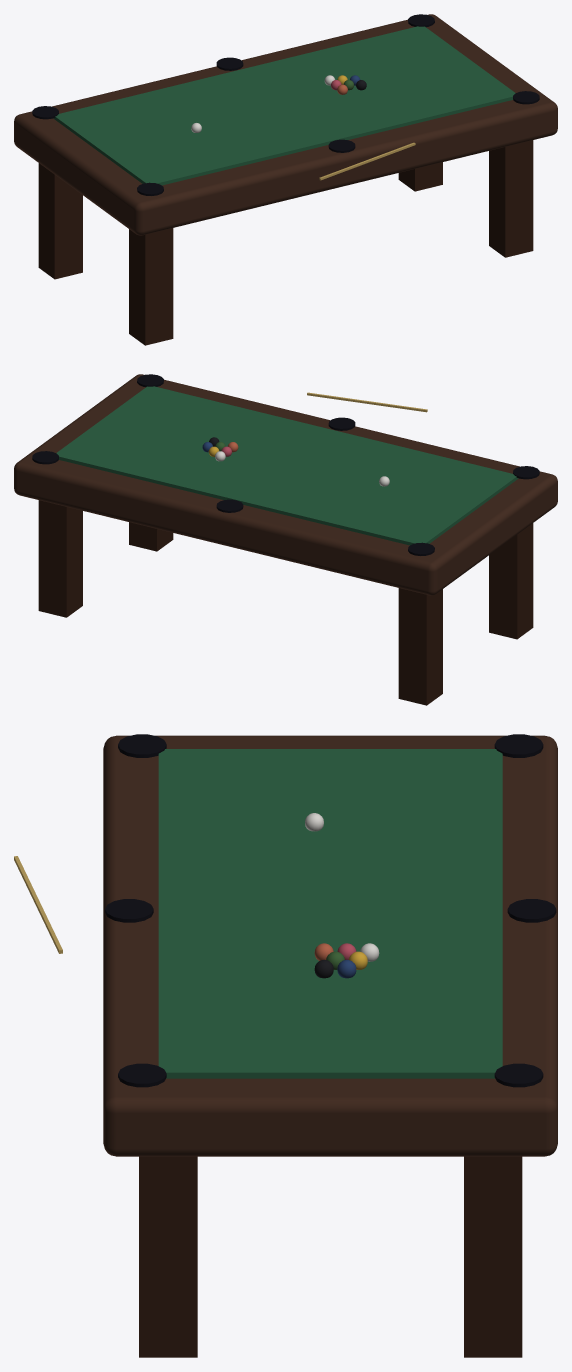
The model's file is mesa-sinuca.glb.
3 views of the same model, one above another, from view 1: azimuth 30°, elevation 25°; view 2: azimuth 150°, elevation 25°; view 3: azimuth 270°, elevation 25° (orthographic). The views are drawn at different scales.
Parts seen in each view (by area): view 1: mesa-sinuca_malha; view 2: mesa-sinuca_malha; view 3: mesa-sinuca_malha.
Part boxes in pixels (x1,y1,x2,y2): mesa-sinuca_malha: [14, 14, 557, 345]; mesa-sinuca_malha: [14, 374, 557, 705]; mesa-sinuca_malha: [14, 734, 557, 1357].
Bounding box in the file's own units: 2.7 × 0.99 × 1.68.
